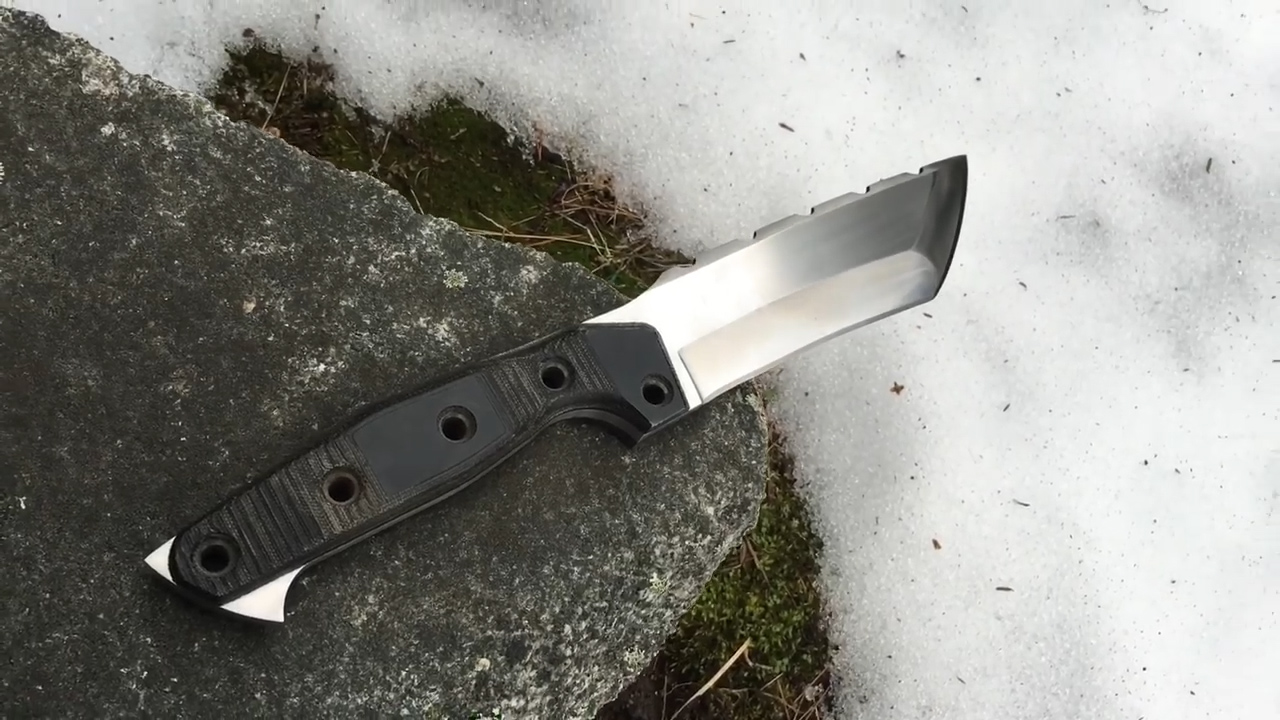knife: (530, 135, 988, 458)
